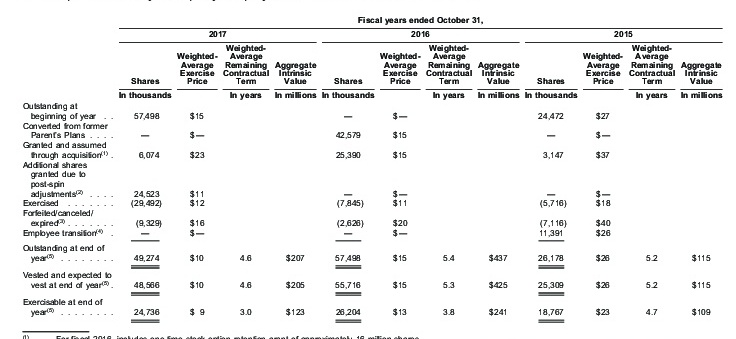table: (0, 0, 736, 339)
